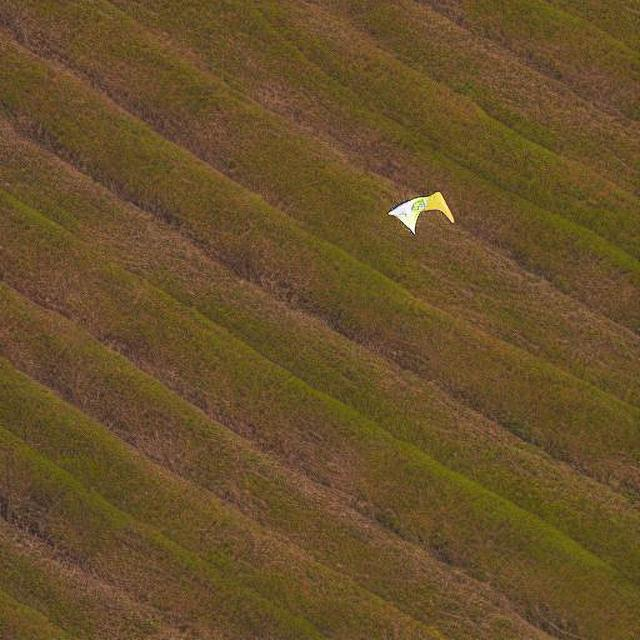floating object: (387, 190, 456, 238)
